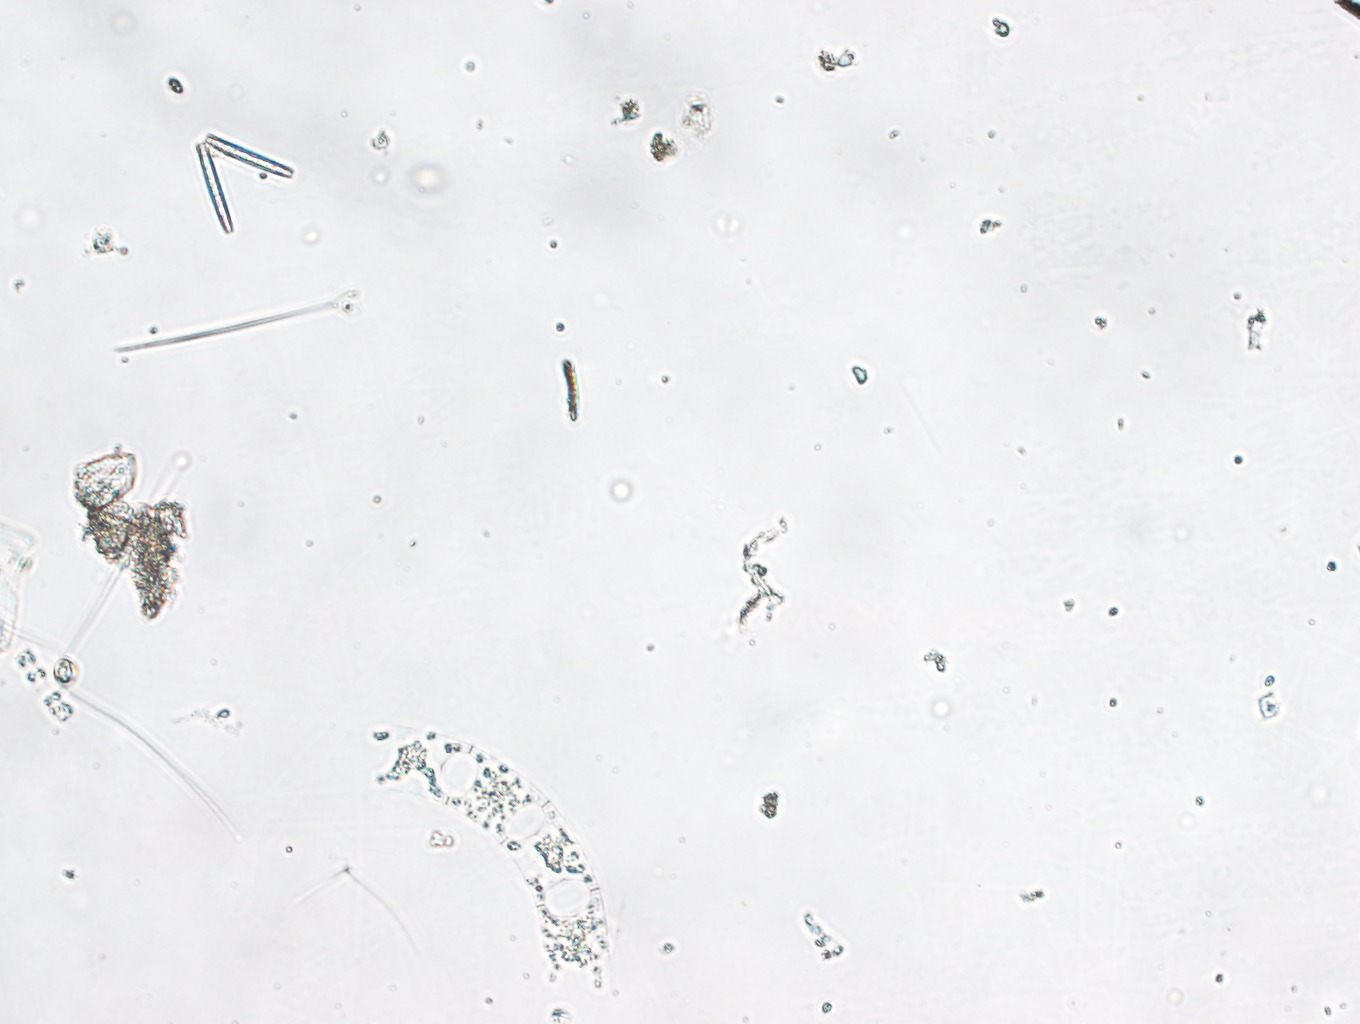eucampia: (366, 719, 618, 1006)
thalassionema frauenfeldii: (178, 128, 297, 234)
